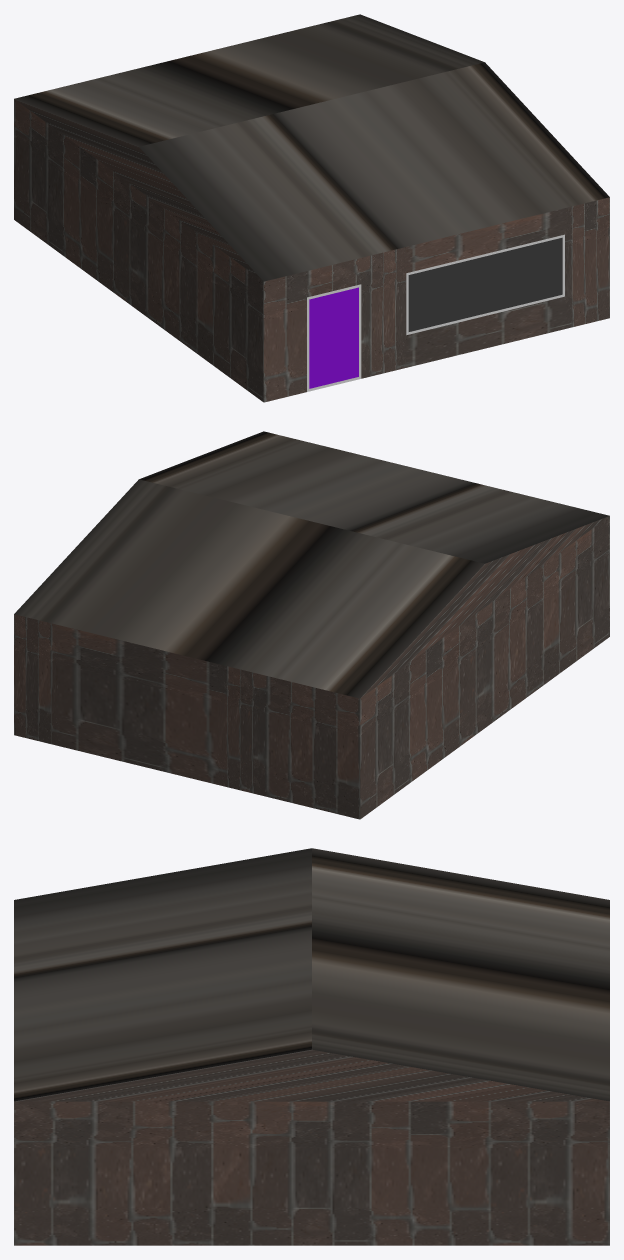
File: dump_office.gltf
3 views of the same model, one above another, from view 1: azimuth 30°, elevation 25°; view 2: azimuth 150°, elevation 25°; view 3: azimuth 270°, elevation 25° (orthographic). The views are drawn at different scales.
Visible parts, largest first — view 1: Cube; view 2: Cube; view 3: Cube.
Boxes of the visible parts, x1,y1,x2,y2 form: Cube: (14,14,609,402); Cube: (14,431,609,819); Cube: (14,848,609,1245).
Bounding box in the file's own units: 8 × 3.63 × 10.
Materials: 5 (2 with a texture image).
